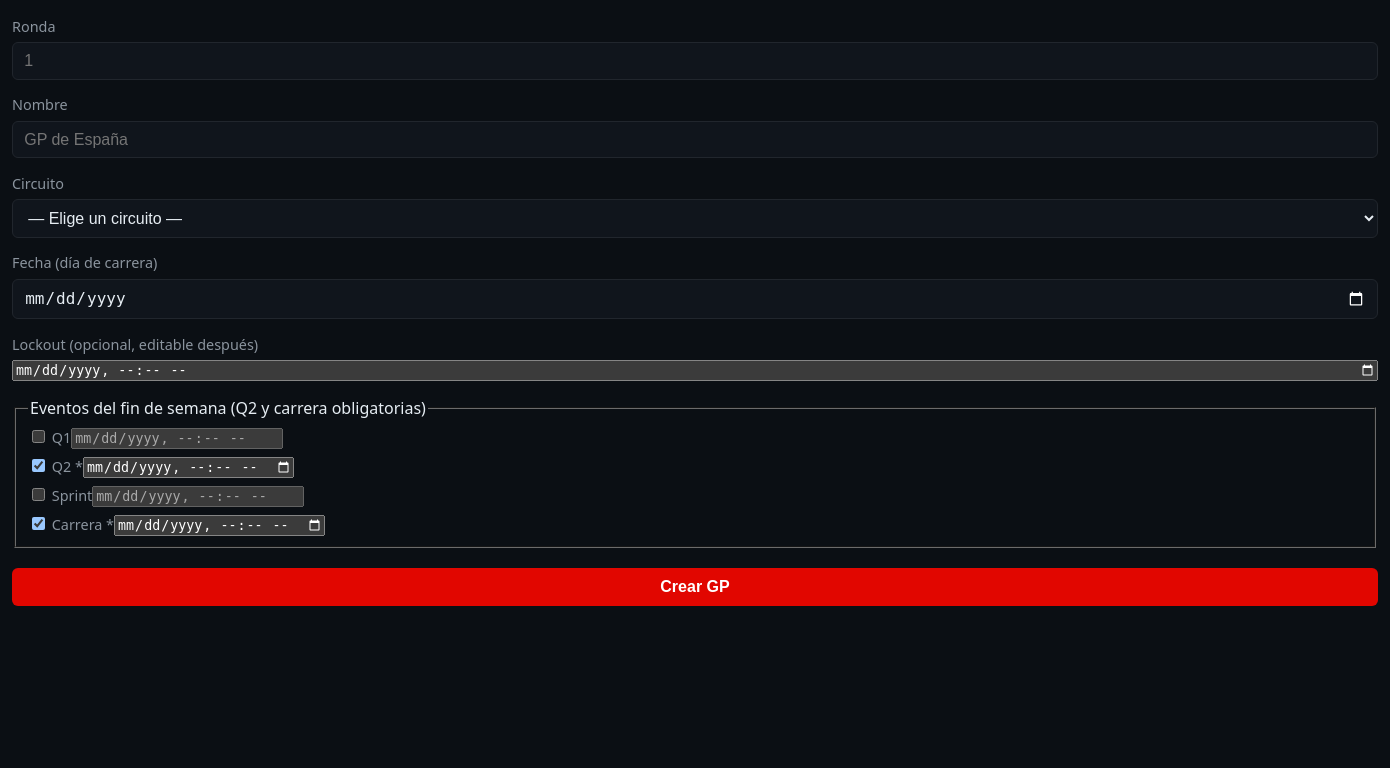
Test: CreateGpForm › desactiva el botón cuando Q2 o carrera no están marcadas
Click the checkbox labelled "Q2 *": (38, 466) [32,459,45,472]
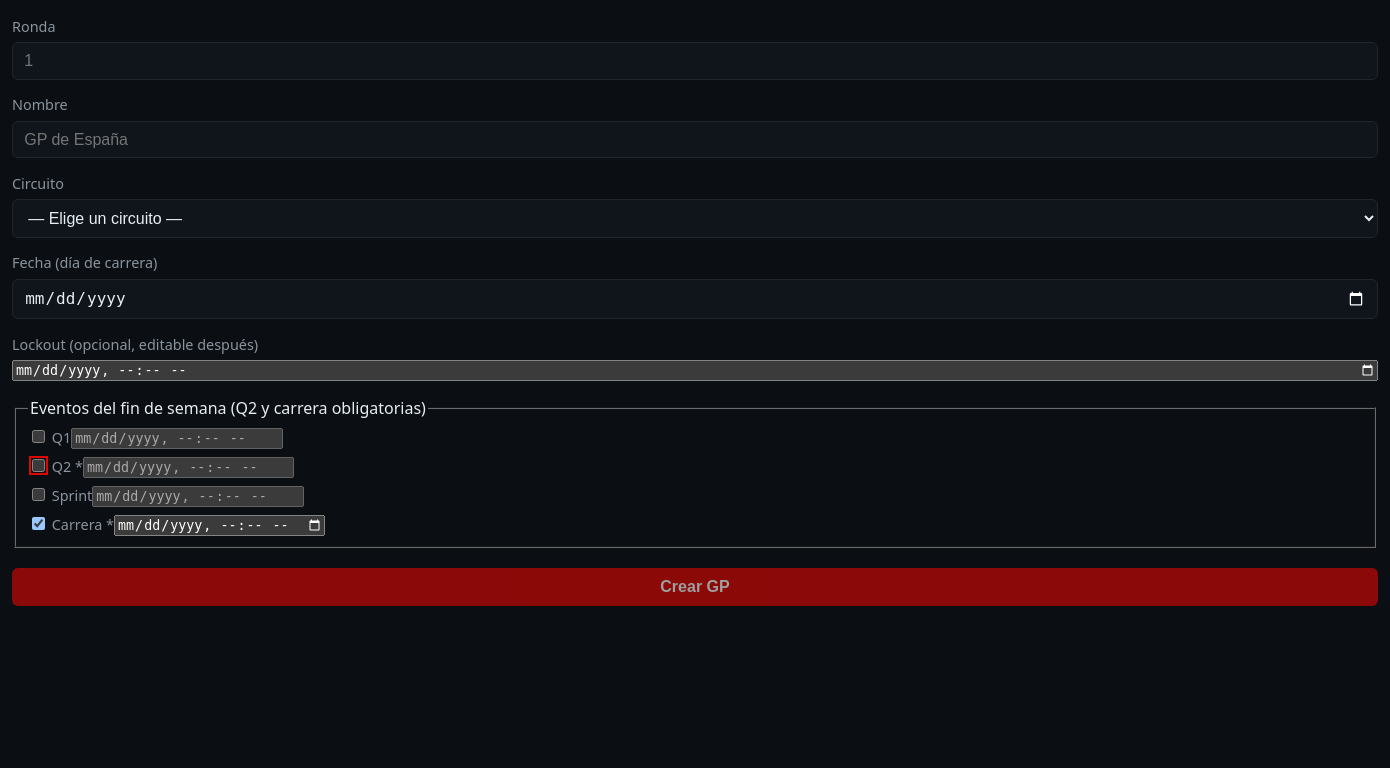
Check: the button "Crear GP" is disabled, box [12,568,1378,606]
